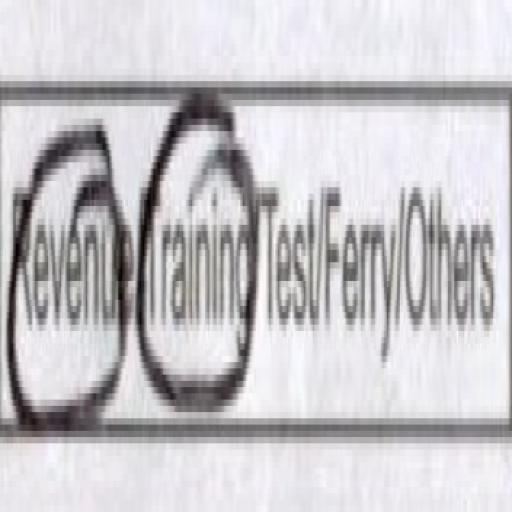check: (0, 31, 129, 512), (137, 36, 258, 508)
